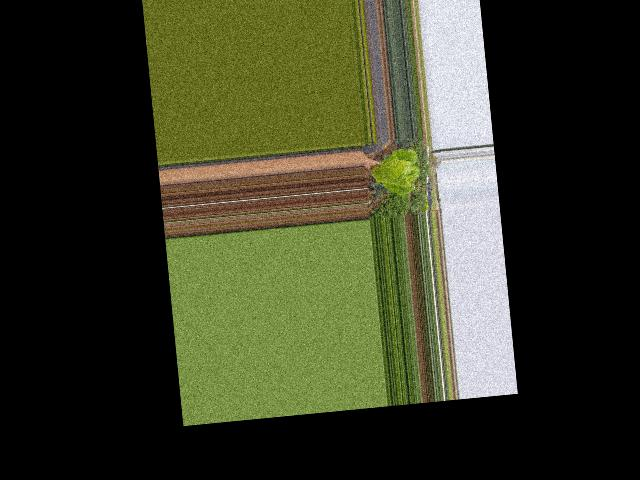lettuce: (365, 145, 421, 199)
